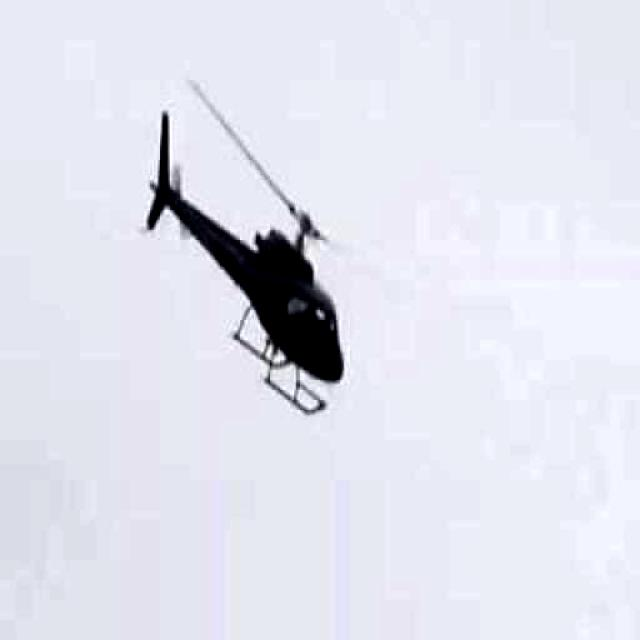drone: (109, 90, 399, 450)
